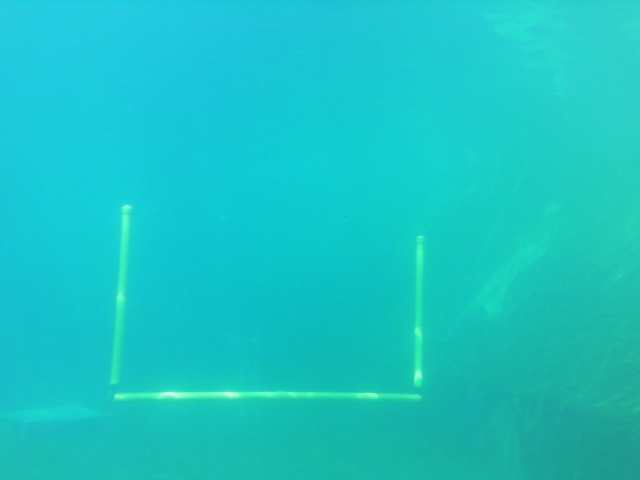channel: (107, 199, 430, 411)
